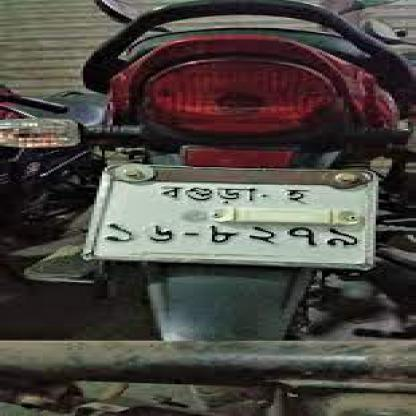license_plate: (40, 153, 414, 277)
